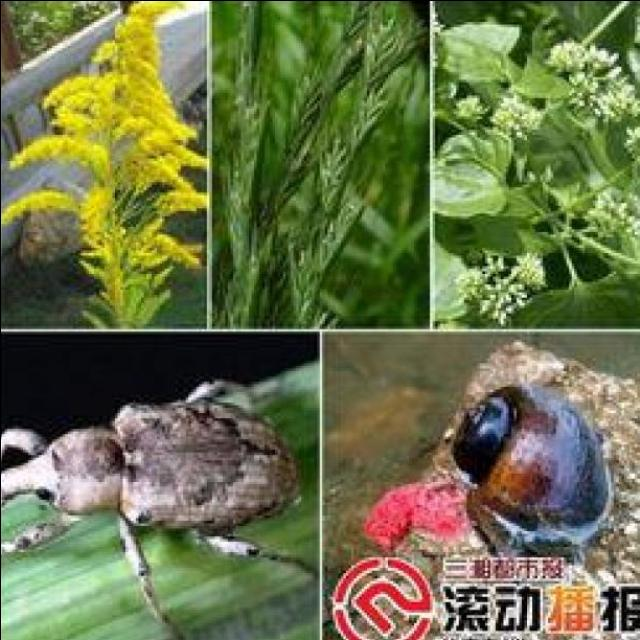ricebug: (0, 392, 297, 610), (451, 383, 612, 555)
